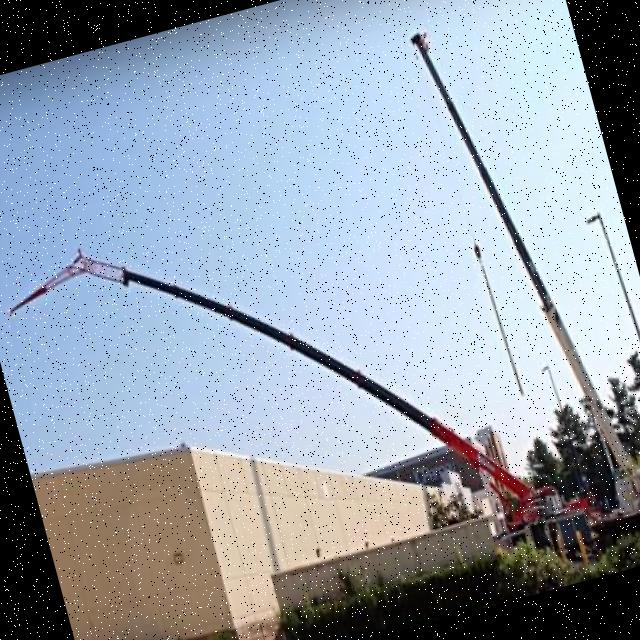Mobile Crane: (0, 146, 599, 640), (411, 0, 640, 561)
